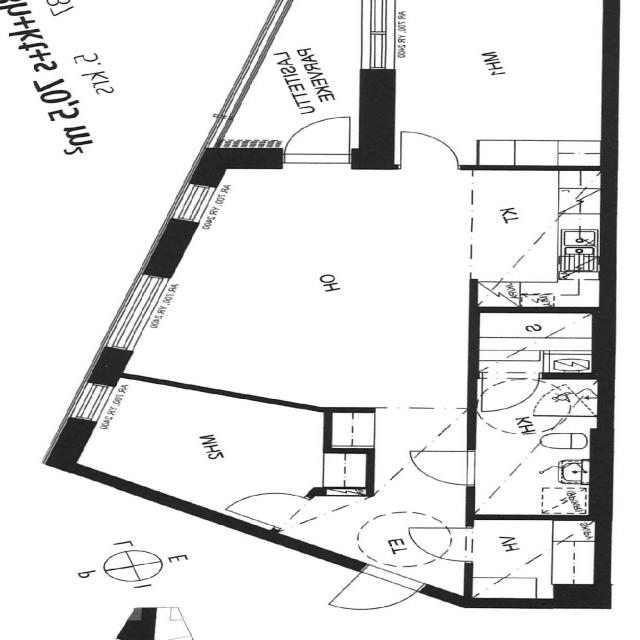door: (329, 564, 425, 624), (227, 482, 310, 528), (287, 118, 348, 164), (412, 451, 478, 485), (483, 373, 539, 412), (413, 528, 478, 561), (401, 132, 456, 168)
